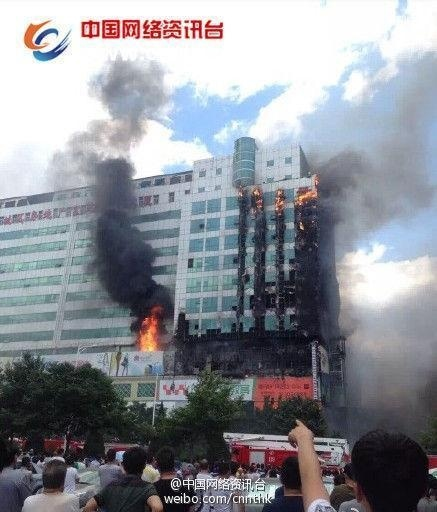fire: (241, 177, 321, 212), (135, 308, 162, 353)
